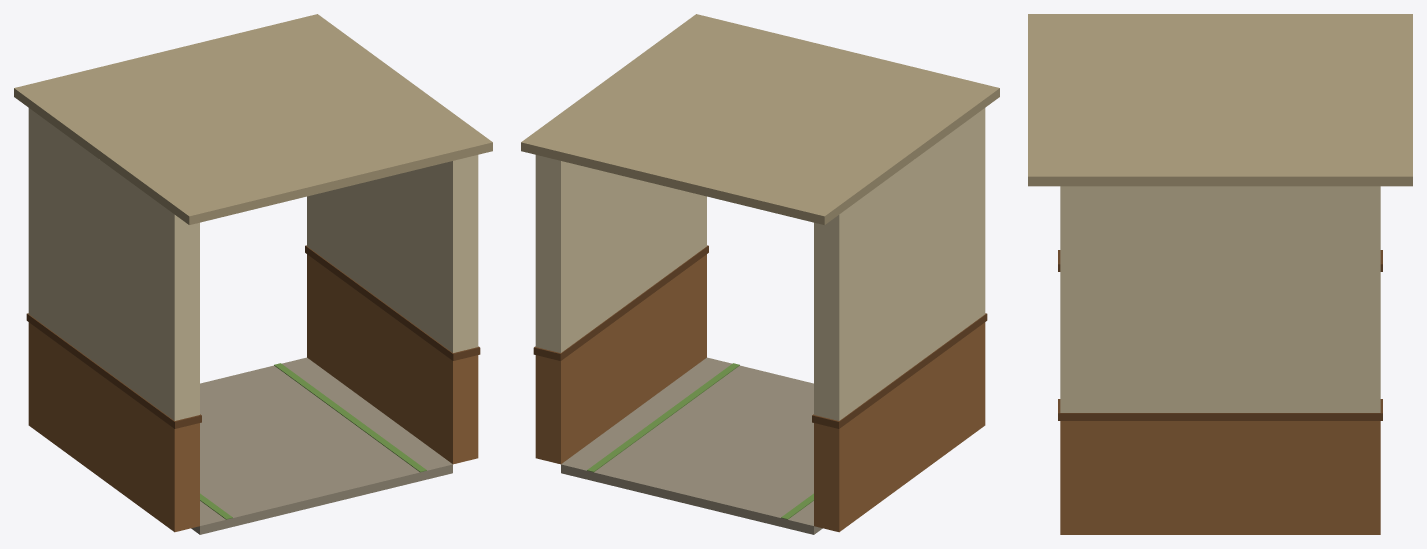
Rendered from room_shared_hall_filler_dark.glb.
3 renders of one model, left to right at view 1: azimuth 30°, elevation 25°; view 2: azimuth 150°, elevation 25°; view 3: azimuth 270°, elevation 25°, orthographic. The views are drawn at different scales.
Parts seen in each view (by area): view 1: room_shared_hall_filler_dark; view 2: room_shared_hall_filler_dark; view 3: room_shared_hall_filler_dark.
Part boxes in pixels (x1,y1,x2,y2): room_shared_hall_filler_dark: (14,14,492,534); room_shared_hall_filler_dark: (521,14,999,534); room_shared_hall_filler_dark: (1028,14,1412,534).
Size of the model in its own units: 3.62 by 3.8 by 3.6.
Materials: 1 (1 with a texture image).
